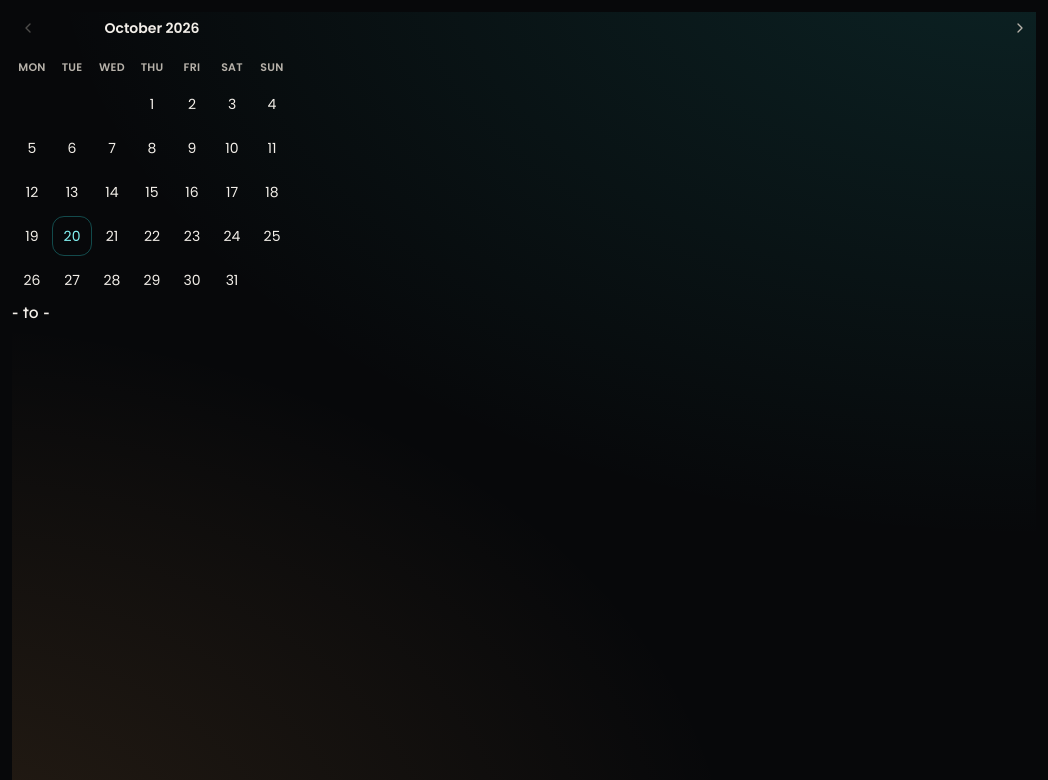
Test: Calendar range mode › picks a range with two clicks
Click the button named "October 22, 2026" at (152, 236), box top-left (132, 216), bottom-right (172, 256)
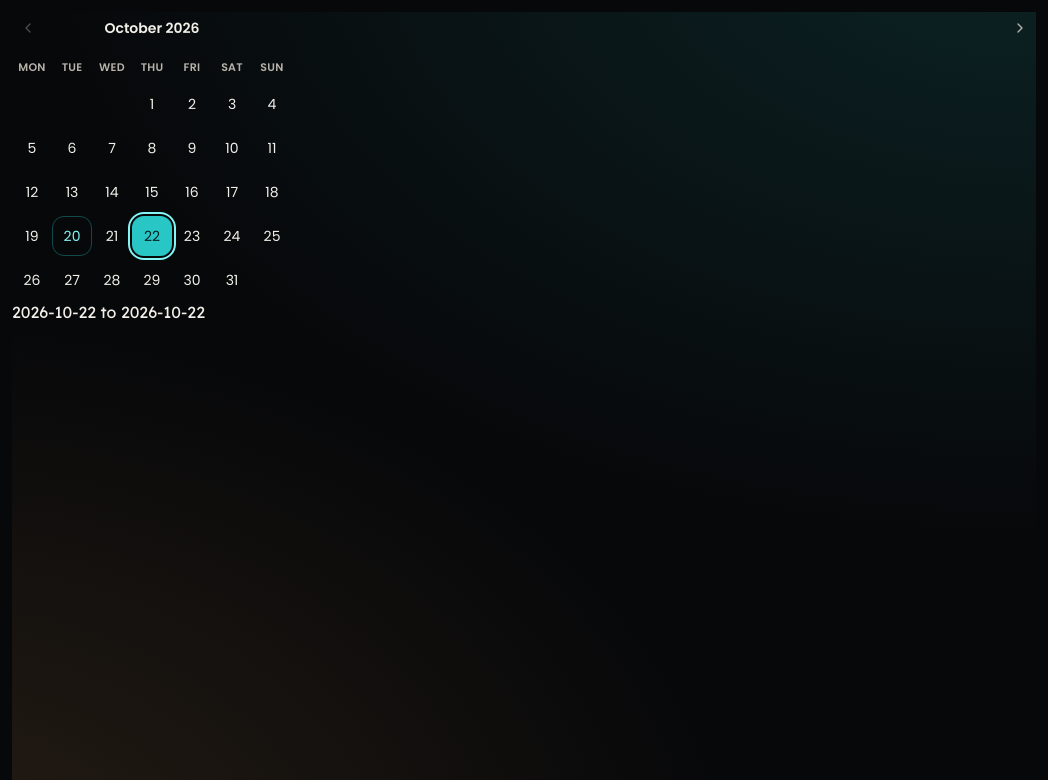
Click the button named "October 27, 2026" at (72, 280), box top-left (52, 260), bottom-right (92, 300)
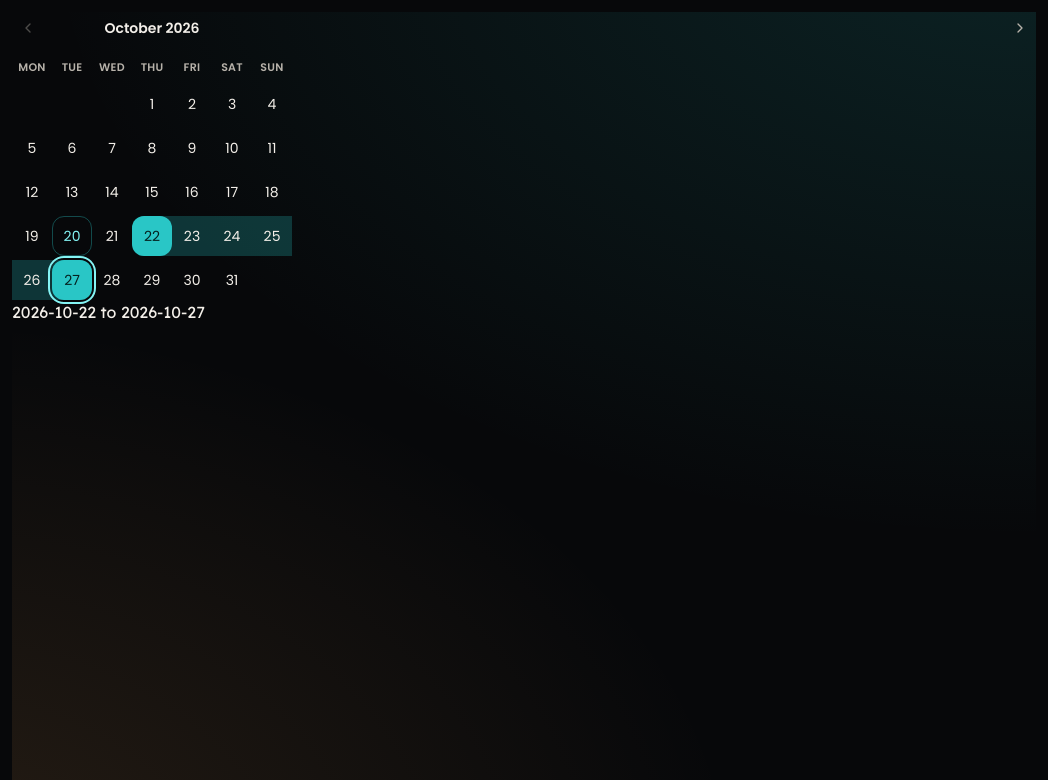
Expected: the text with test id "range" reads "2026-10-22 to 2026-10-27", top-left (12, 302), bottom-right (205, 322)
